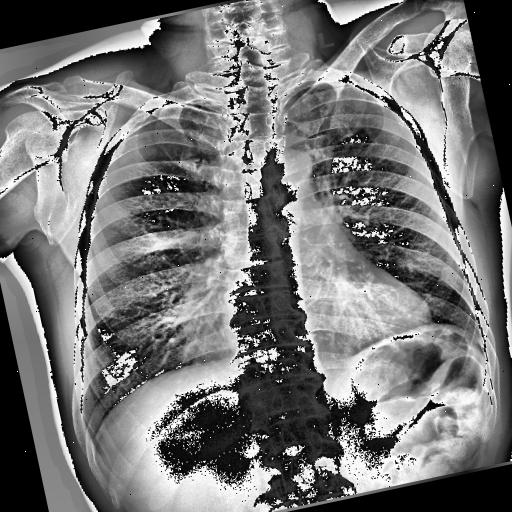0- Aortic enlargement: (254, 142, 318, 195)
3- Cardiomegaly: (212, 255, 439, 380), (216, 264, 436, 374)
7- Lung Opacity: (103, 246, 240, 372)
